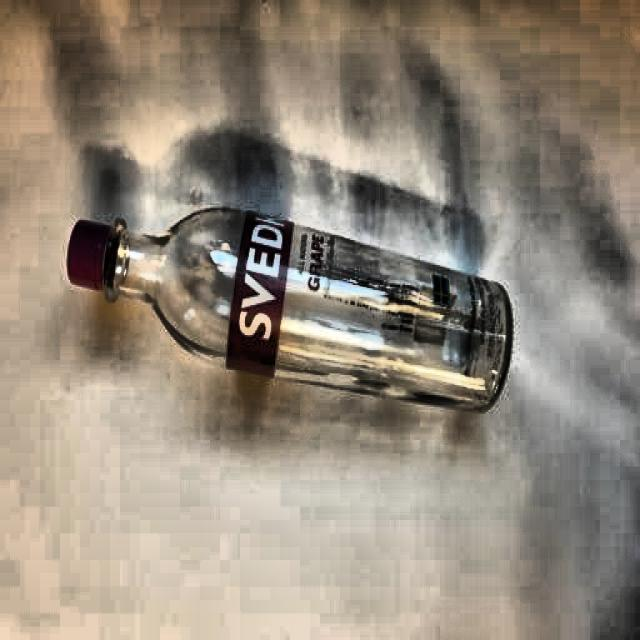glass: (67, 204, 513, 416)
